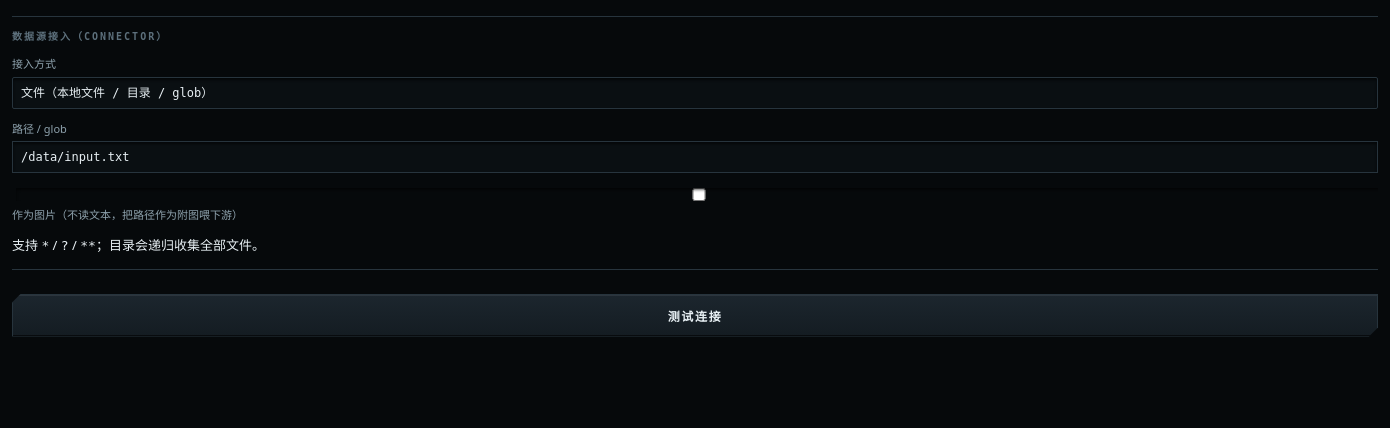
Test: ConnectorEditor › 测试连接 › 测试成功显示结果
Click the button "测试连接".
click(695, 315)  # box [12,294,1378,336]
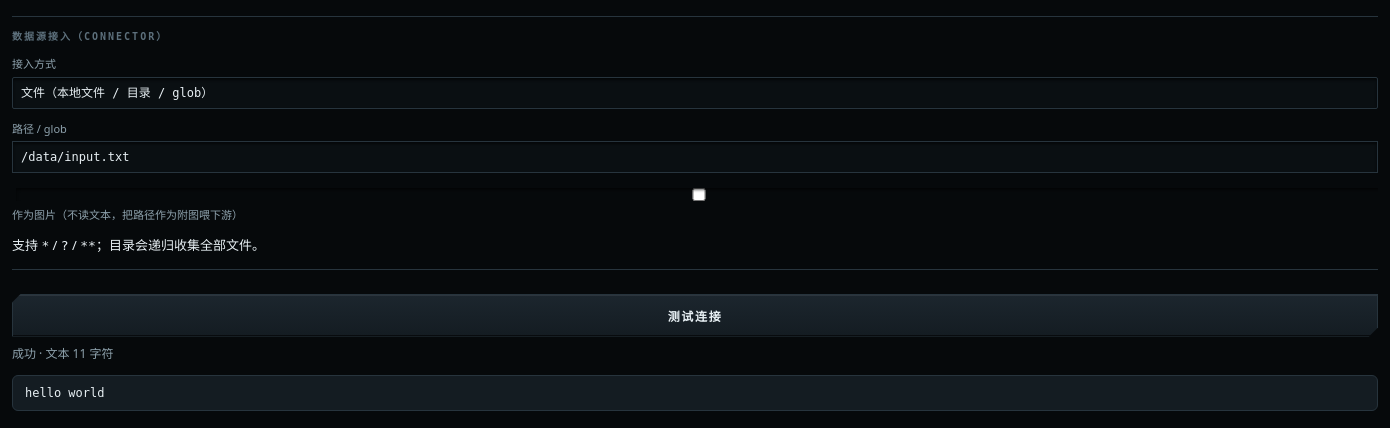
Expected: the text "成功 · 文本 11 字符" is shown, [12,344,113,362]
Expected: the text "hello world" is shown, [12,374,1378,410]
